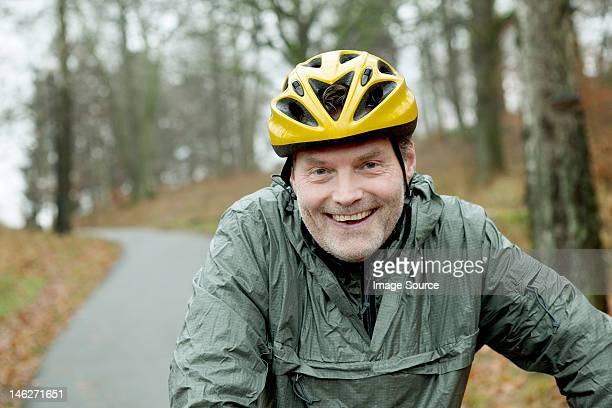helmet: (268, 50, 417, 261)
